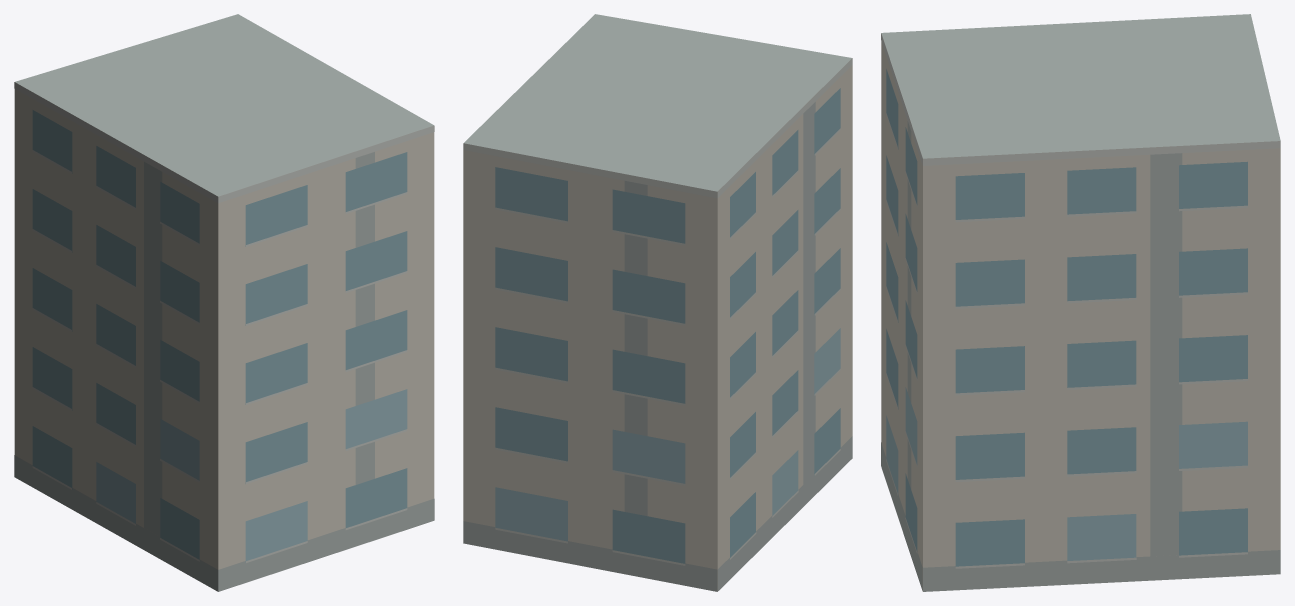
Rendered from survey-upis-32890236.glb.
3 renders of one model, left to right at view 1: azimuth 30°, elevation 25°; view 2: azimuth 150°, elevation 25°; view 3: azimuth 270°, elevation 25°, orthographic. The views are drawn at different scales.
Parts seen in each view (by area): view 1: survey-upis-32890236.tmp; view 2: survey-upis-32890236.tmp; view 3: survey-upis-32890236.tmp.
Part boxes in pixels (x1,y1,x2,y2): survey-upis-32890236.tmp: (14, 14, 434, 591); survey-upis-32890236.tmp: (463, 14, 852, 591); survey-upis-32890236.tmp: (881, 14, 1280, 591).
Bounding box in the file's own units: 10.39 × 14.5 × 12.13.
